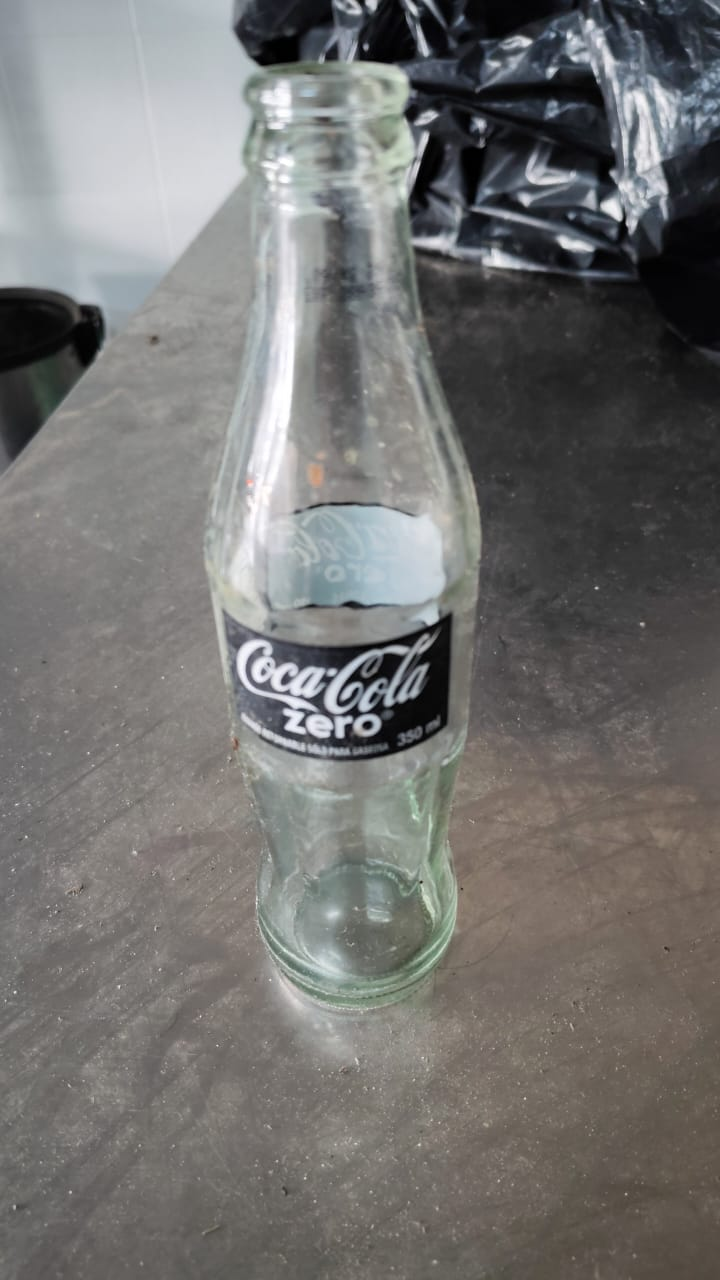Vidrio: (200, 64, 482, 1000)
